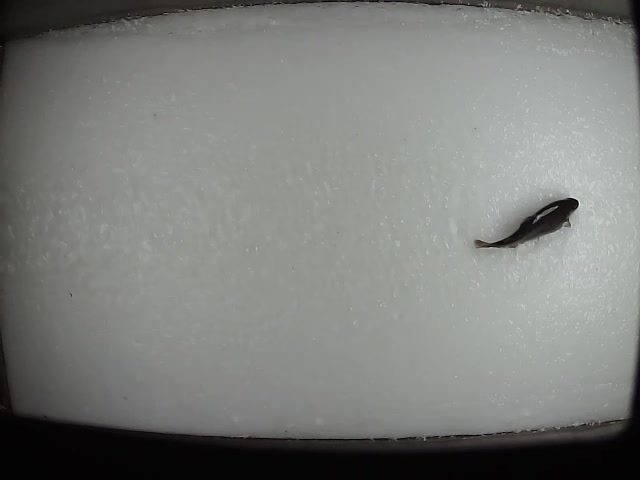fish: (472, 194, 581, 253)
